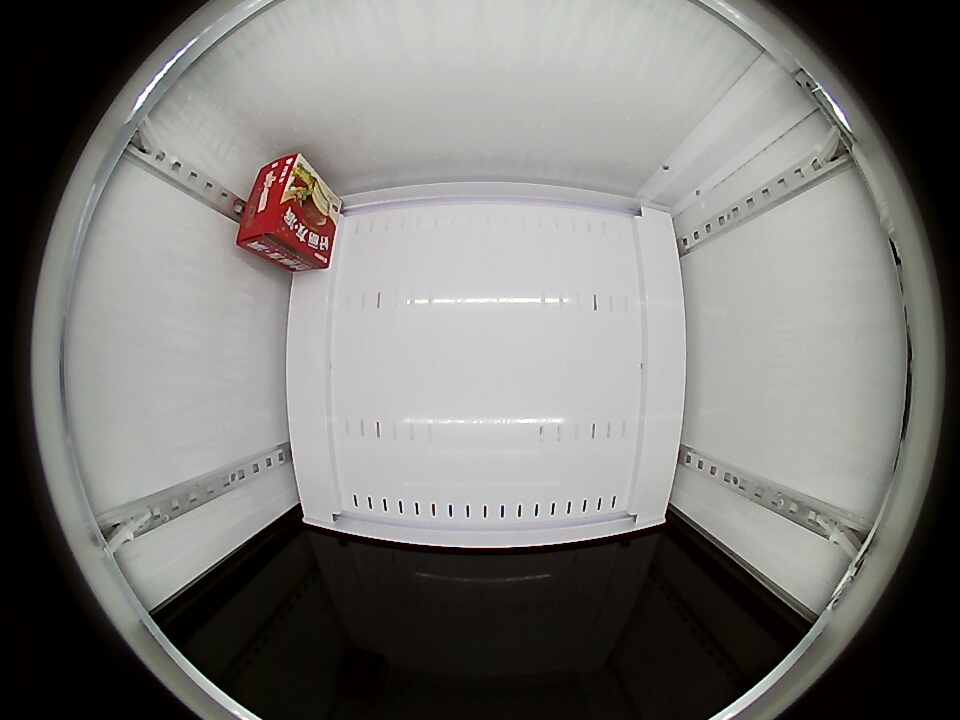haoliyou: (236, 153, 319, 257)
